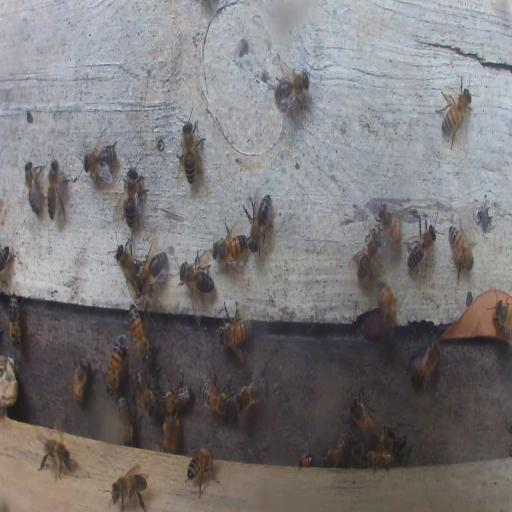nonpollenbee: (438, 81, 473, 145), (176, 111, 204, 186), (405, 215, 439, 276), (348, 228, 384, 280), (243, 191, 273, 253), (446, 219, 476, 281), (272, 62, 310, 110), (109, 468, 149, 512), (83, 135, 119, 183), (44, 157, 70, 223), (180, 252, 214, 300), (213, 224, 249, 268), (39, 434, 73, 480), (408, 340, 440, 388), (373, 196, 403, 246), (186, 447, 216, 497), (122, 163, 144, 230), (134, 251, 167, 294), (234, 371, 267, 413), (128, 302, 150, 362), (200, 383, 233, 421), (114, 244, 140, 291), (162, 380, 195, 416), (378, 280, 399, 336), (321, 430, 352, 467), (24, 156, 43, 216), (105, 337, 125, 394), (133, 367, 156, 415), (218, 314, 251, 346), (350, 393, 373, 435), (71, 356, 89, 406), (117, 396, 135, 444), (492, 300, 512, 340), (8, 296, 20, 347), (366, 450, 393, 468), (392, 439, 412, 463), (378, 428, 396, 451), (351, 438, 365, 466), (0, 248, 10, 276), (297, 454, 316, 467)
pollenbee: (163, 411, 178, 453)
